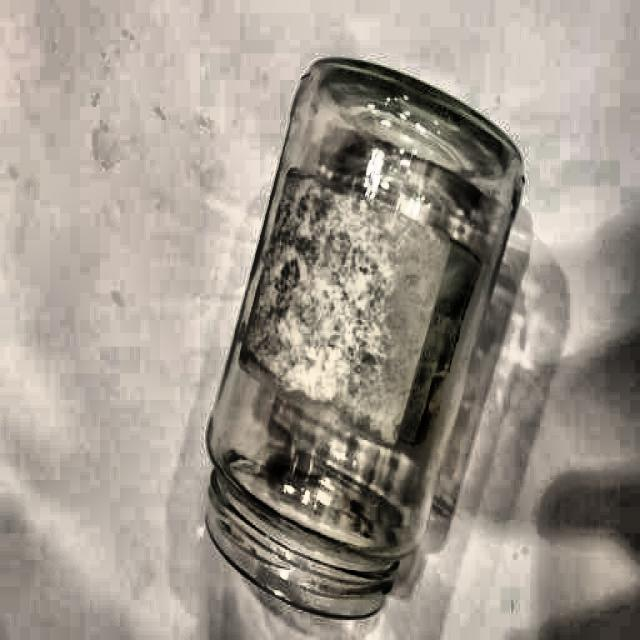glass: (201, 57, 521, 622)
